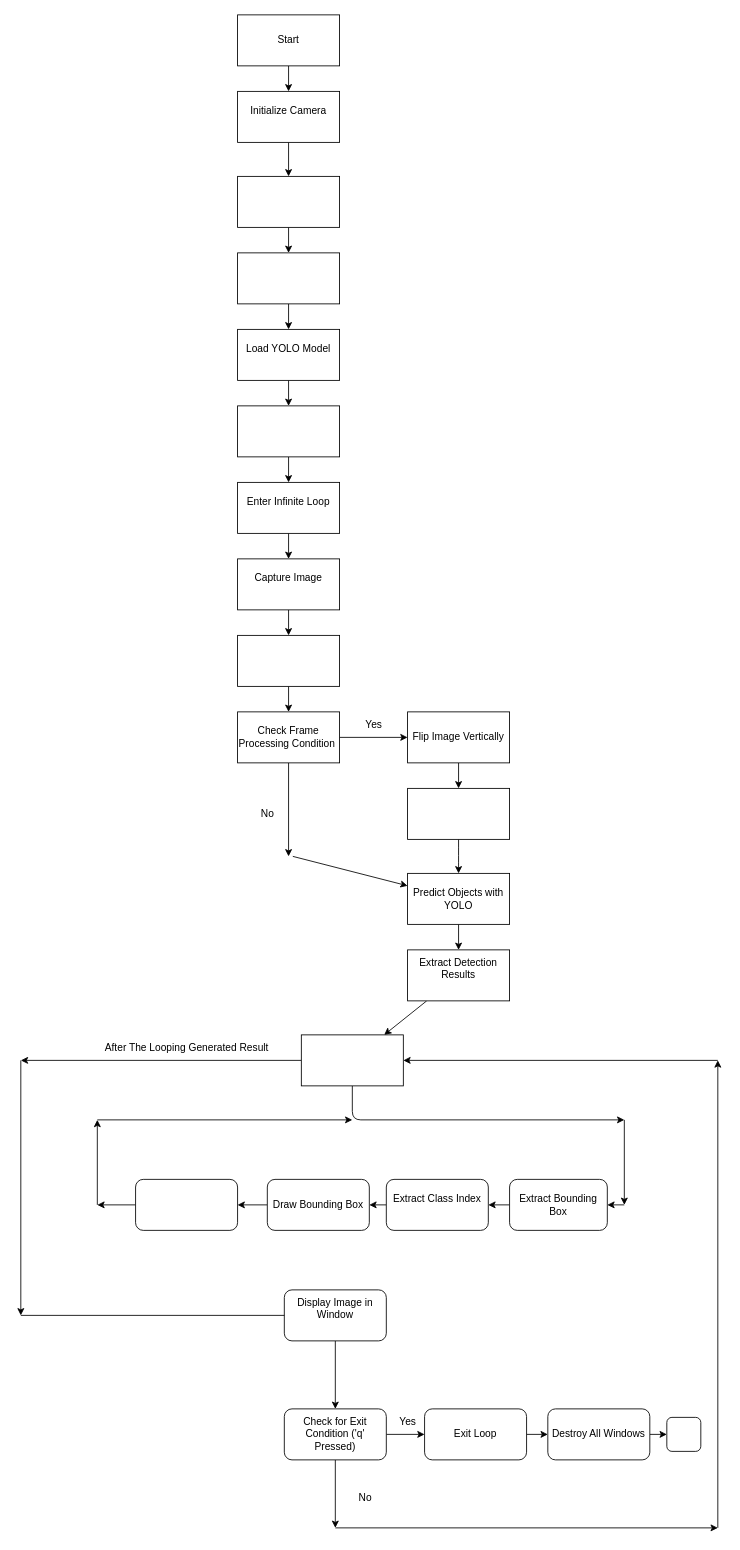
This 740x1550 diagram has some shape labels left out. The shapes that lost their labels are listed below. From the top down, each one's box as (x1, y1, x2, y2) in pixels, then its label:
(237, 176, 340, 227): Configure Camera Settings
(237, 252, 340, 304): Start Camera
(237, 405, 340, 457): Read Class List from ' coco . txt '
(237, 635, 340, 686): Increment Frame Counter
(407, 788, 510, 839): Skip Frame ( if not 3 rd )
(300, 1034, 403, 1086): Loop Through Detections
(135, 1179, 238, 1230): Display Class Label
(666, 1417, 701, 1451): End
